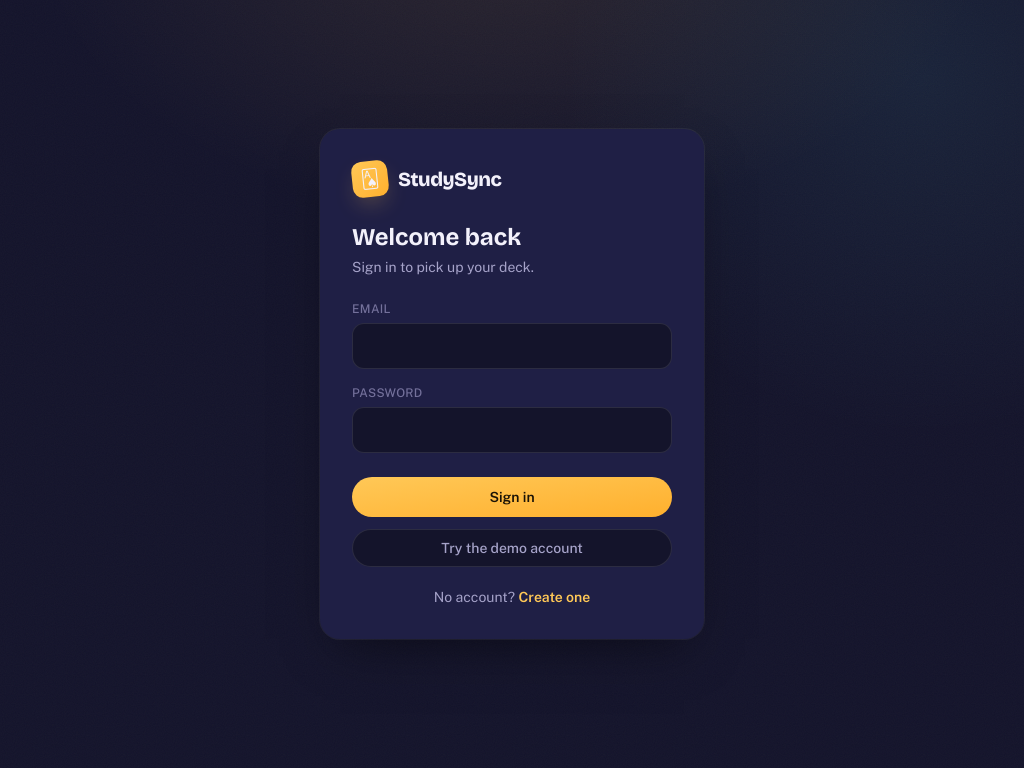
Test: Login page › shows an error message when login fails
Type "a@b.com" into the field labelled "Email".
click(512, 346); type("a@b.com")  # box [352,323,672,369]
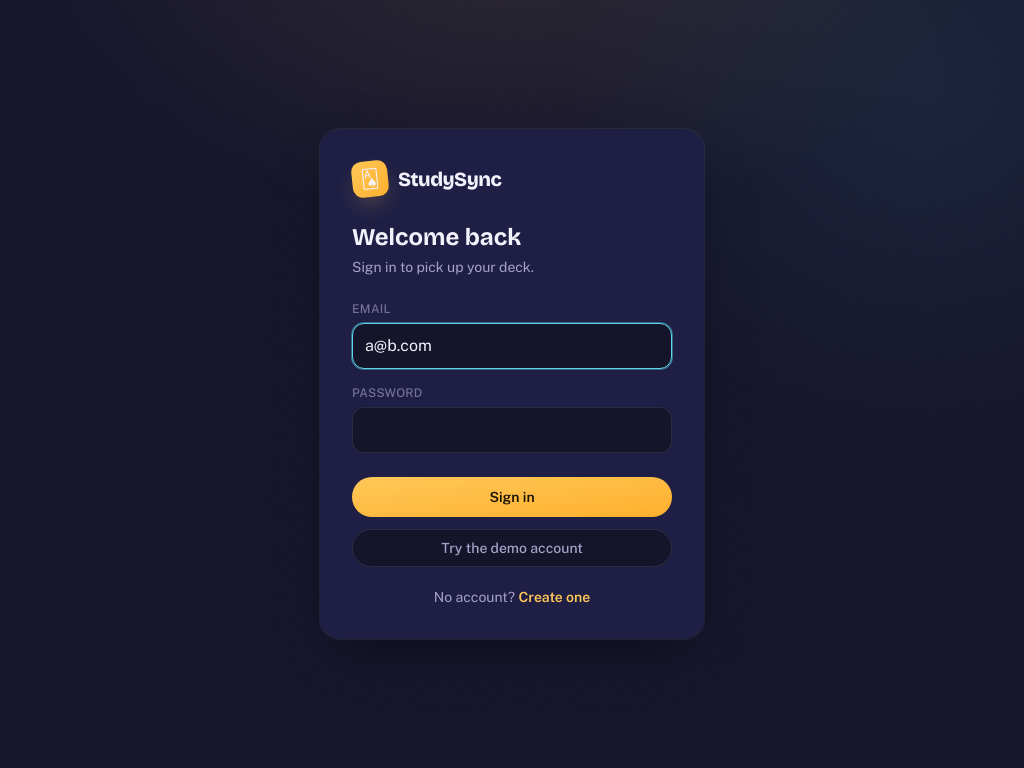
Type "wrongpass" into the password field labelled "Password".
click(512, 430); type("wrongpass")  # box [352,407,672,453]
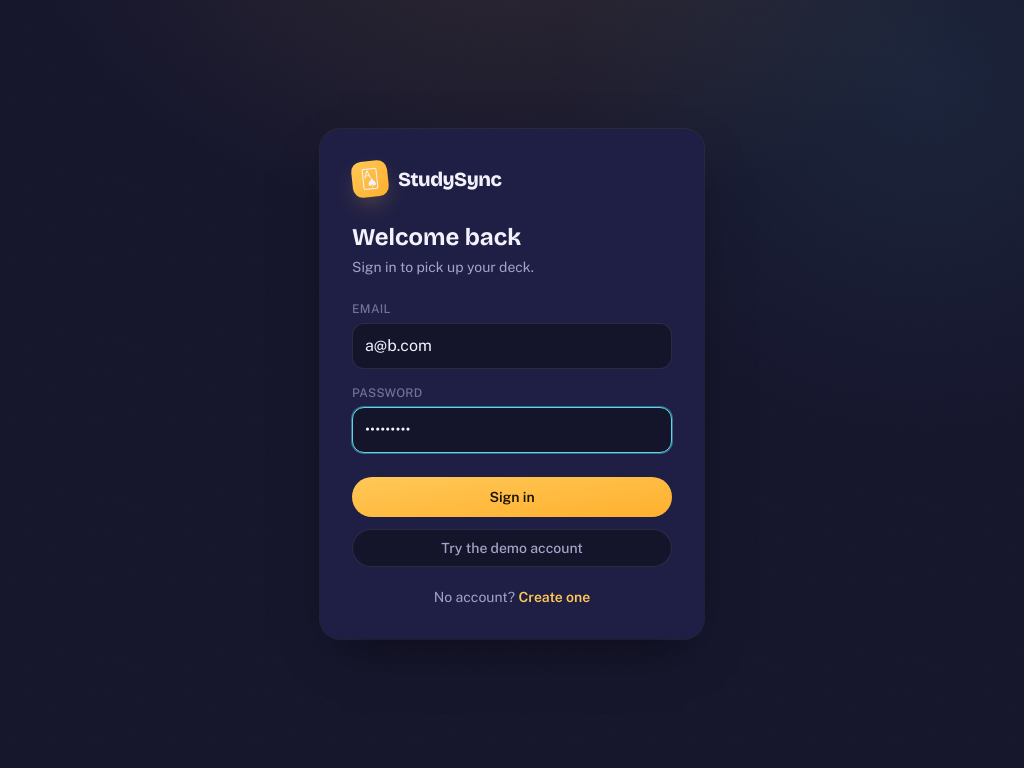
Click the button "Sign in".
click(512, 497)  # box [352,477,672,517]
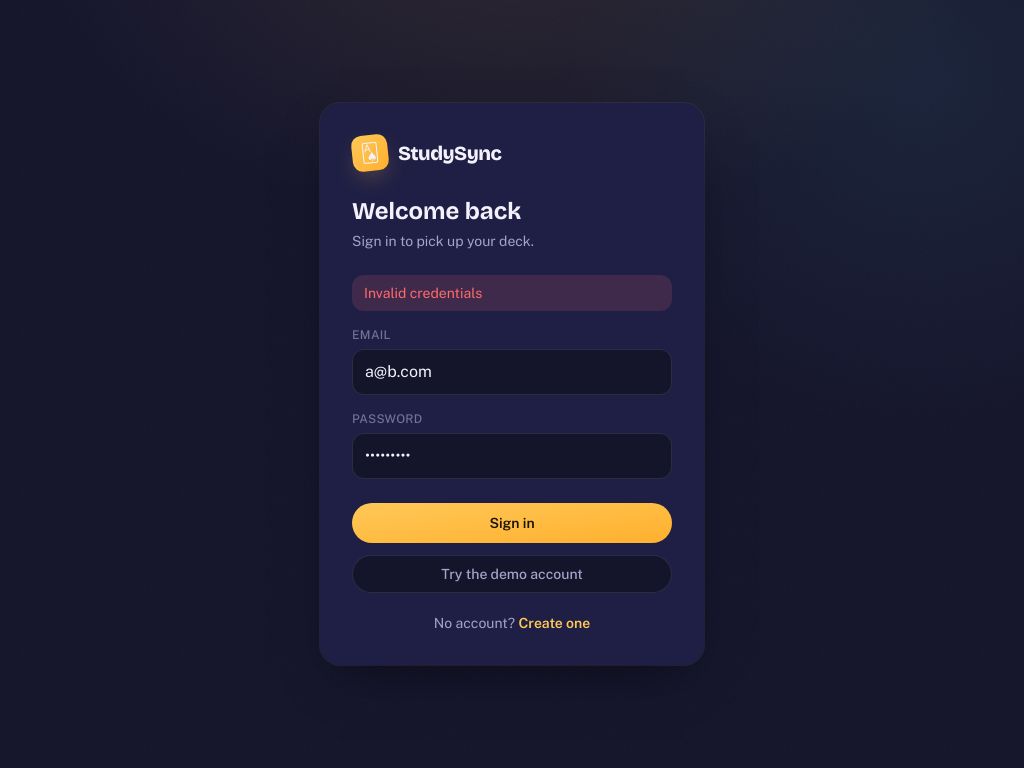
Expected: the message reads "Invalid credentials", [364,285,482,301]
